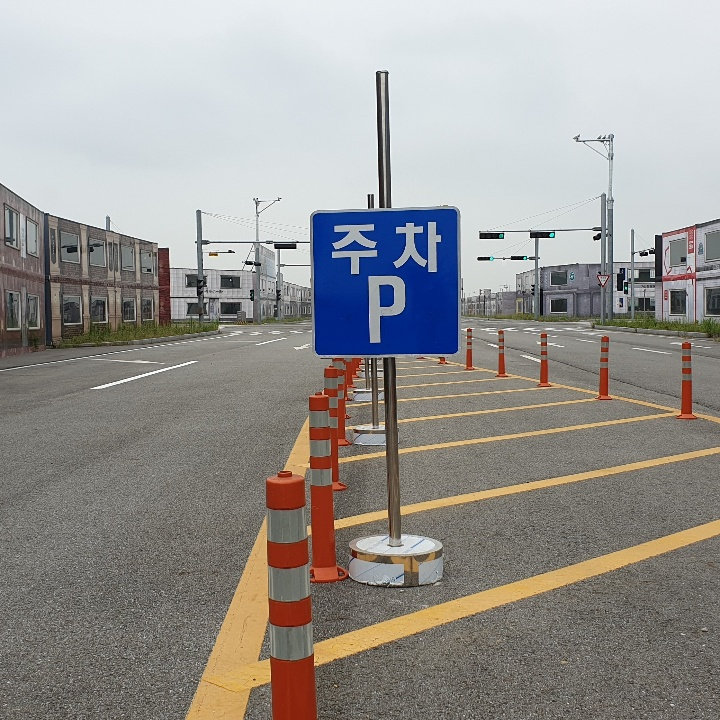parking: (359, 269, 413, 348)
